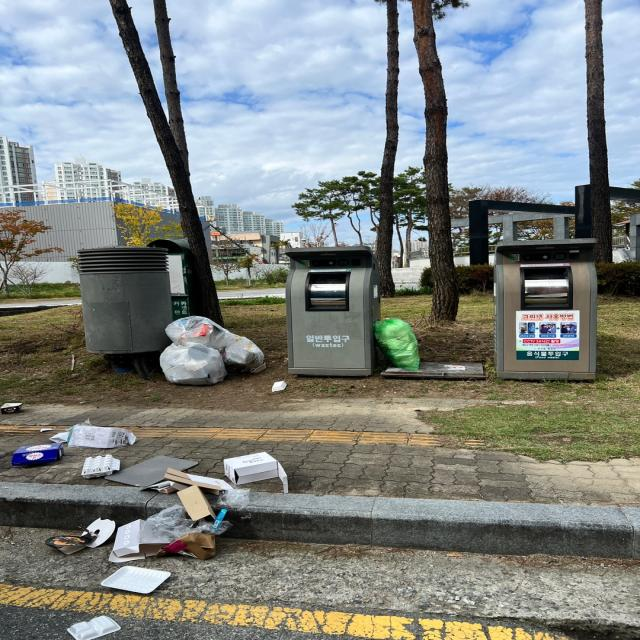CleanNet: (487, 232, 618, 394), (278, 241, 382, 394)
General Waste: (44, 471, 258, 626), (20, 413, 294, 512), (153, 309, 270, 398), (383, 311, 424, 381)
